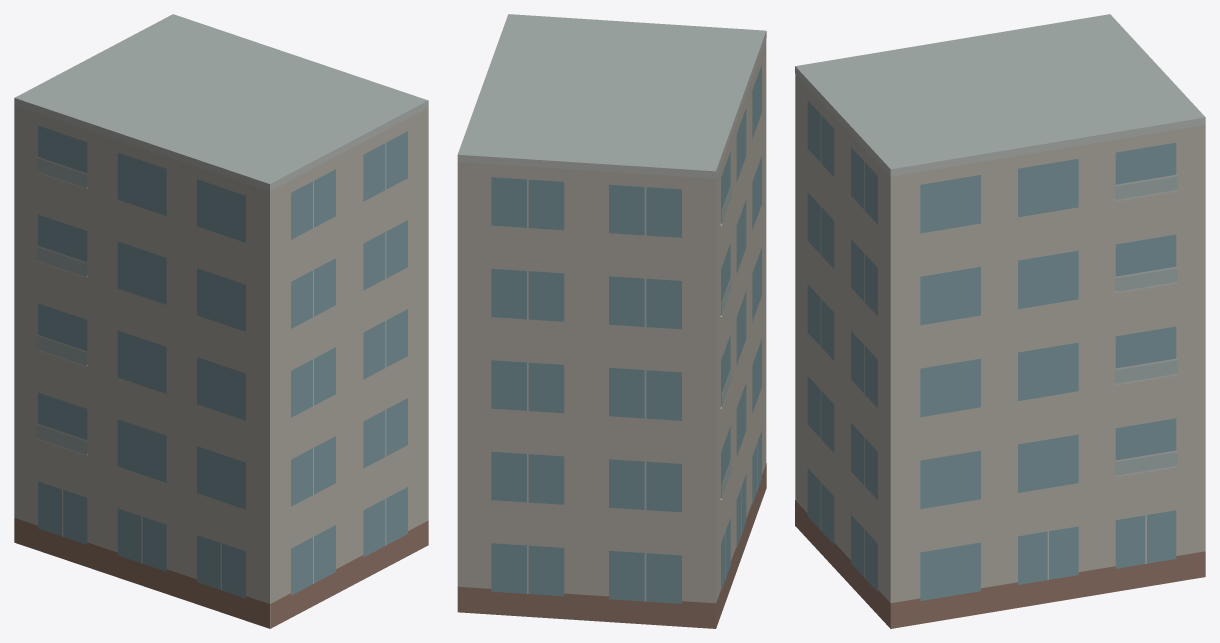
File: residential-35143e62-d963-4282-a95a-8e278bc869a0.glb
3 renders of one model, left to right at view 1: azimuth 30°, elevation 25°; view 2: azimuth 150°, elevation 25°; view 3: azimuth 270°, elevation 25°, orthographic. The views are drawn at different scales.
Parts seen in each view (by area): view 1: residential-35143e62-d963-4282-a95a-8e278bc869a0.tmp; view 2: residential-35143e62-d963-4282-a95a-8e278bc869a0.tmp; view 3: residential-35143e62-d963-4282-a95a-8e278bc869a0.tmp.
Part boxes in pixels (x1,y1,x2,y2): residential-35143e62-d963-4282-a95a-8e278bc869a0.tmp: (14,14,428,628); residential-35143e62-d963-4282-a95a-8e278bc869a0.tmp: (457,14,766,628); residential-35143e62-d963-4282-a95a-8e278bc869a0.tmp: (795,14,1205,628).
Size of the model in its own units: 11.06 by 15.25 by 12.36.
